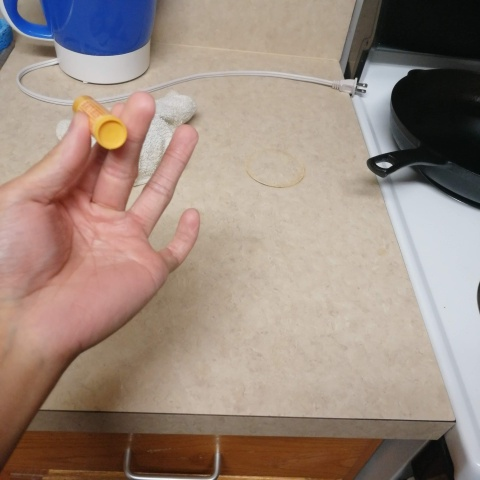chapstick: (70, 93, 128, 150)
